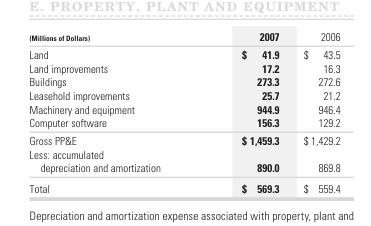table: (28, 29, 339, 194)
table column: (28, 29, 200, 194), (200, 29, 290, 194), (290, 29, 339, 194)
table column header: (28, 29, 339, 45)
table row: (28, 147, 339, 177), (28, 177, 339, 194), (28, 29, 339, 45), (28, 45, 339, 61), (28, 115, 339, 131), (28, 131, 339, 147), (28, 74, 339, 88), (28, 101, 339, 115), (28, 61, 339, 74), (28, 88, 339, 101)
